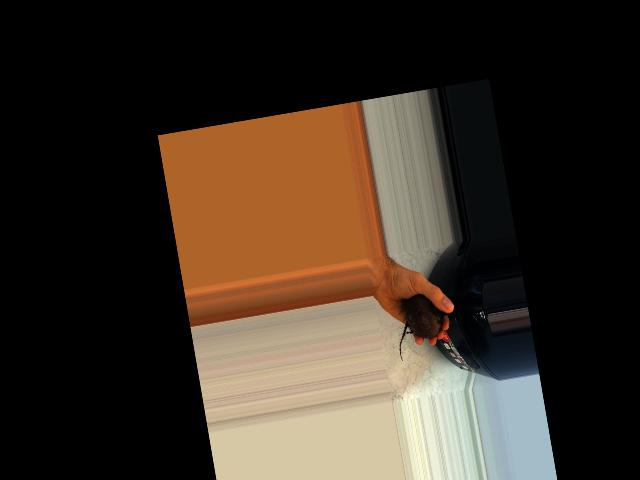beet: (390, 290, 453, 361)
